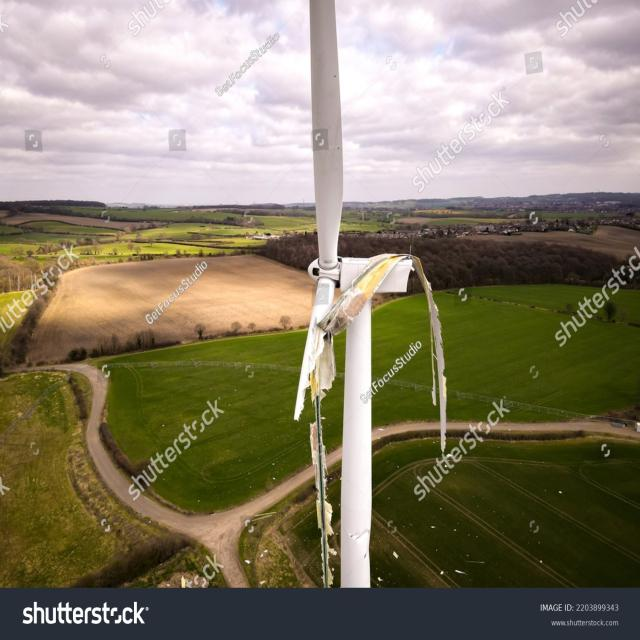damaged-blade: (294, 254, 446, 451), (294, 277, 336, 419)
